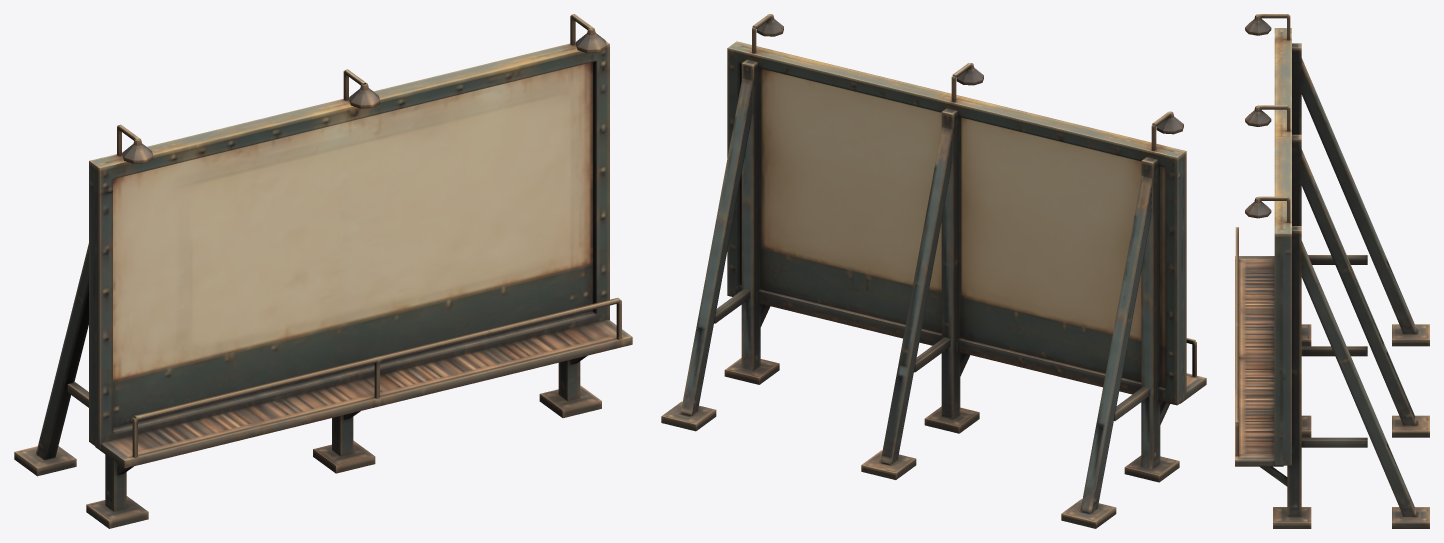
Rendered from RF_Billboard8x4.fbx.
The picture shows the model from 3 angles, left to right: view 1: azimuth 30°, elevation 25°; view 2: azimuth 150°, elevation 25°; view 3: azimuth 270°, elevation 25°; orthographic projection. The views are drawn at different scales.
Visible parts, largest first — view 1: RF_Billboard8x4; view 2: RF_Billboard8x4; view 3: RF_Billboard8x4.
Boxes of the visible parts, box(x1,y1,x2,y2) form: RF_Billboard8x4: box(14, 14, 632, 528); RF_Billboard8x4: box(661, 14, 1206, 528); RF_Billboard8x4: box(1235, 14, 1429, 528).
Size of the model in its own units: 8.44 by 3.38 by 6.2.
1 material, 1 textured.
